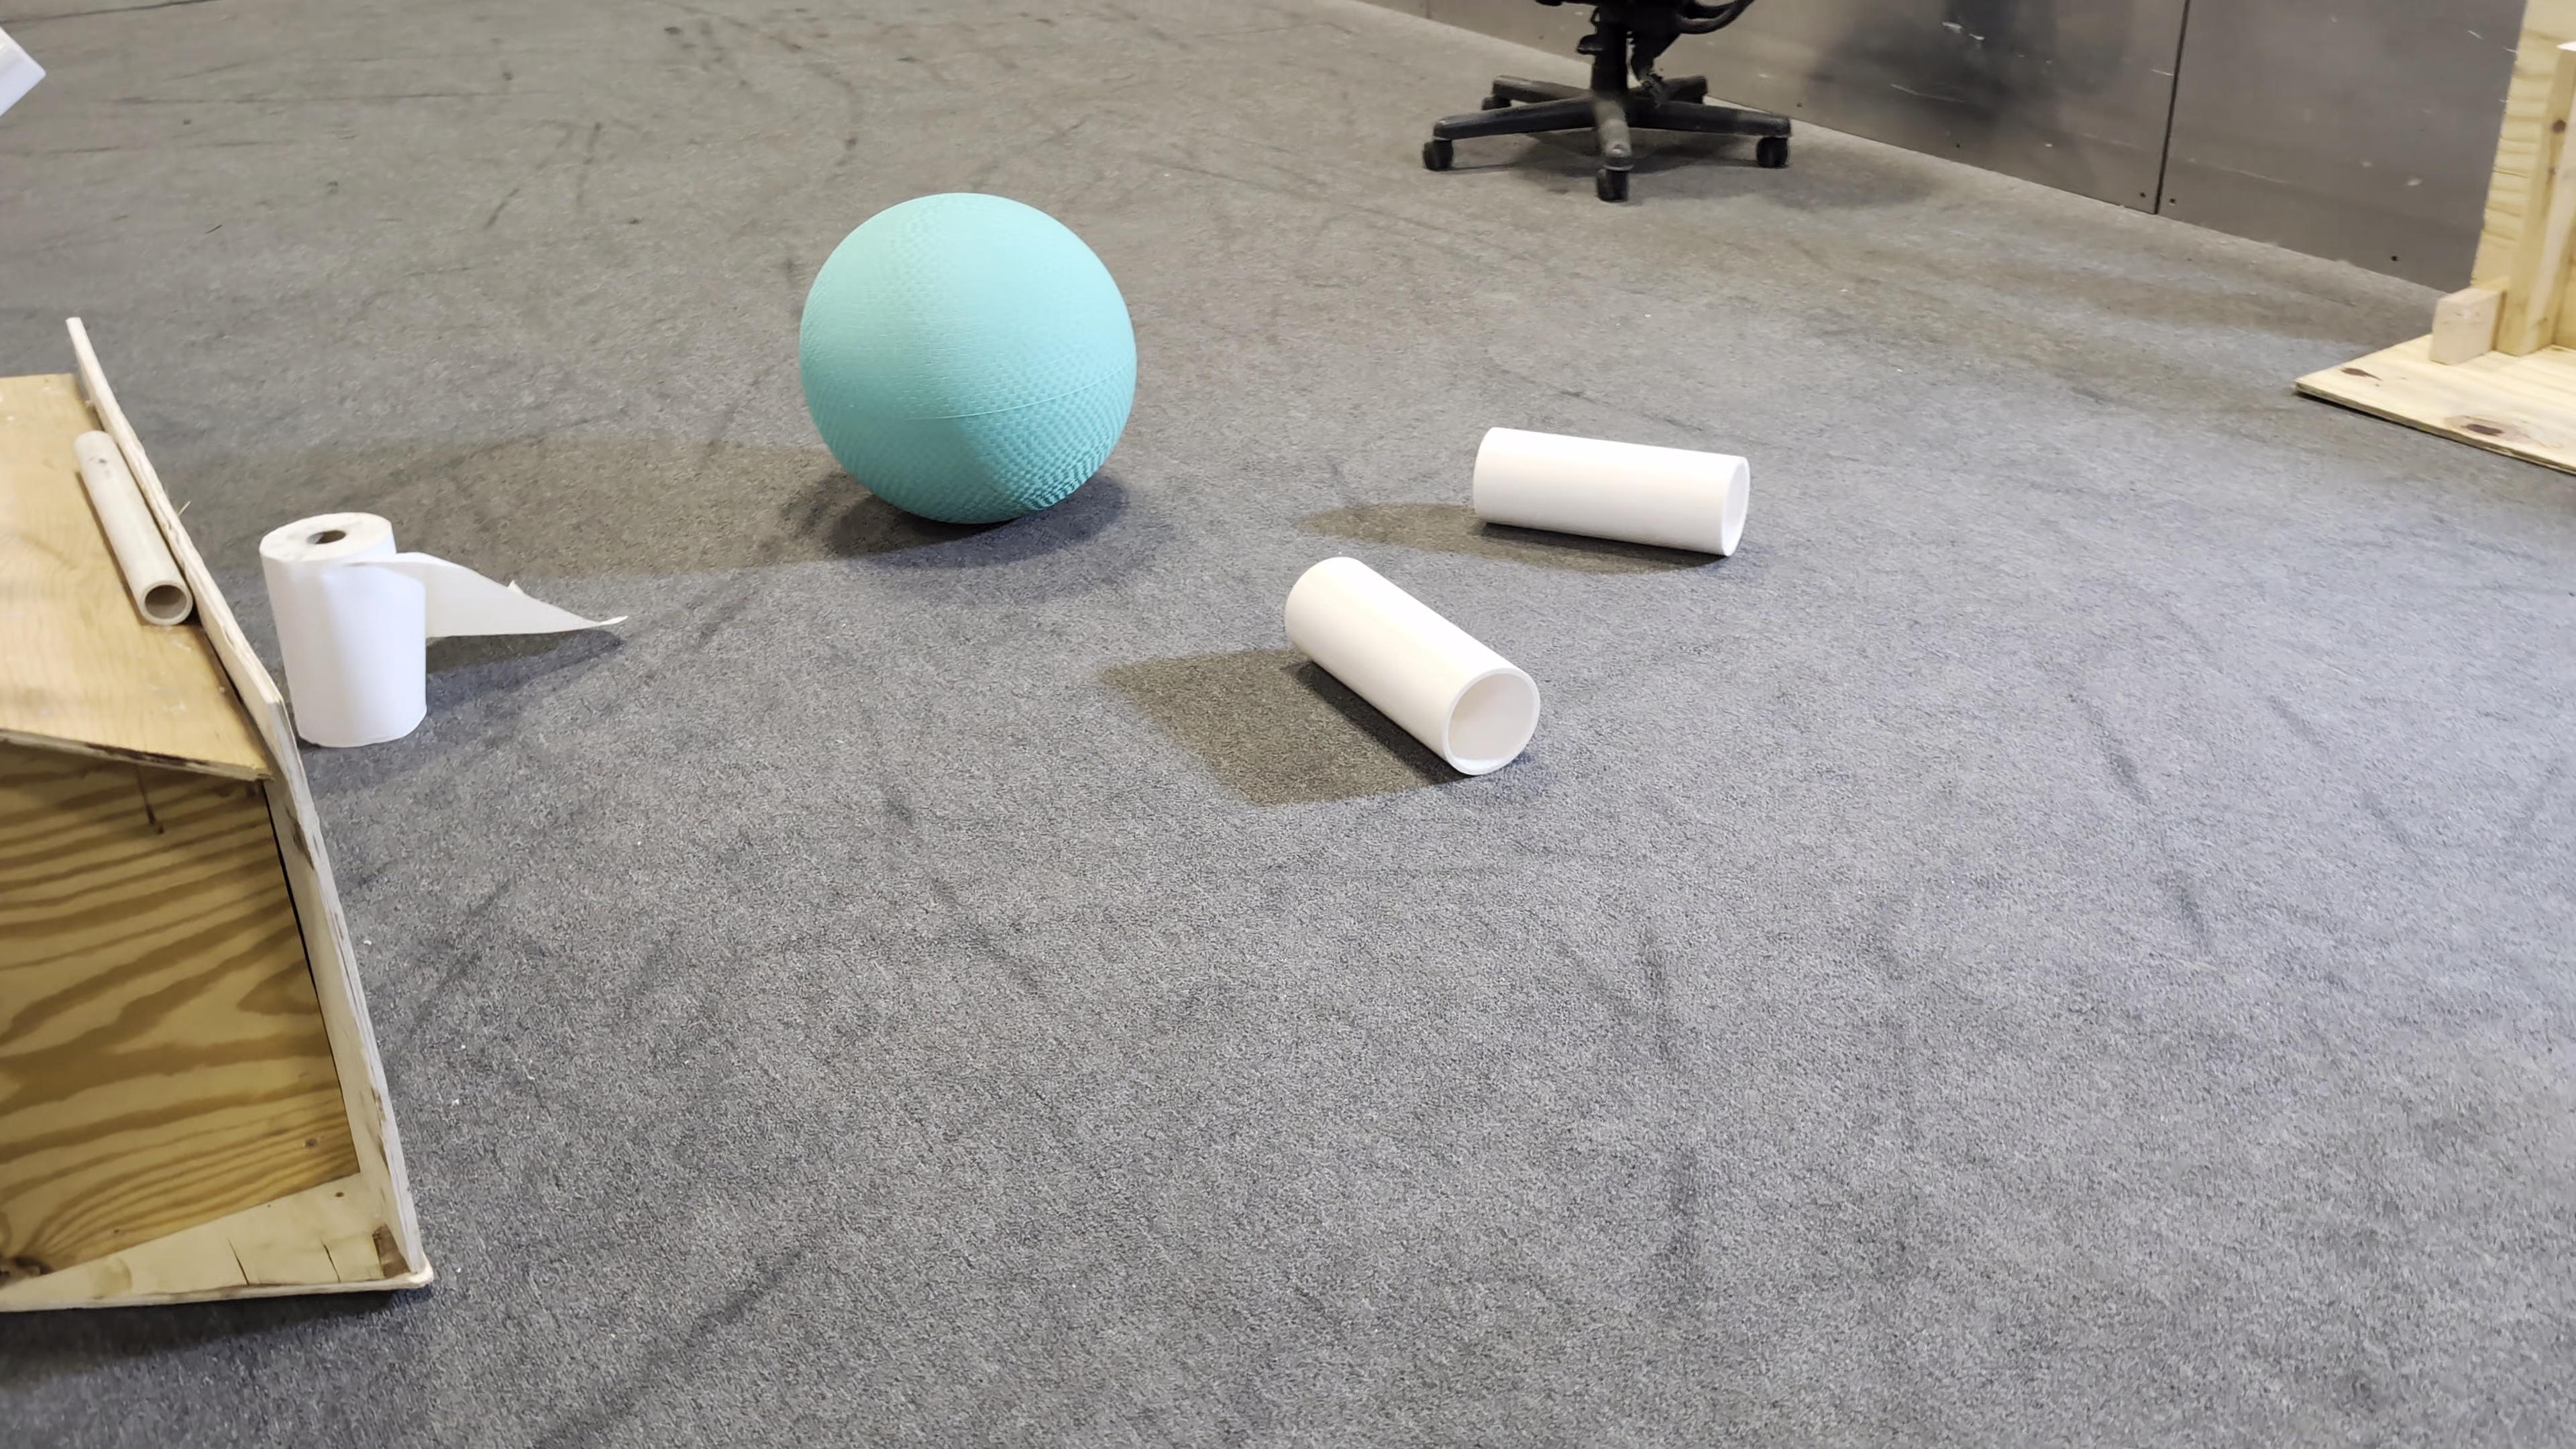algae: (800, 189, 1136, 522)
coral: (1283, 552, 1541, 773), (1470, 419, 1753, 559)
